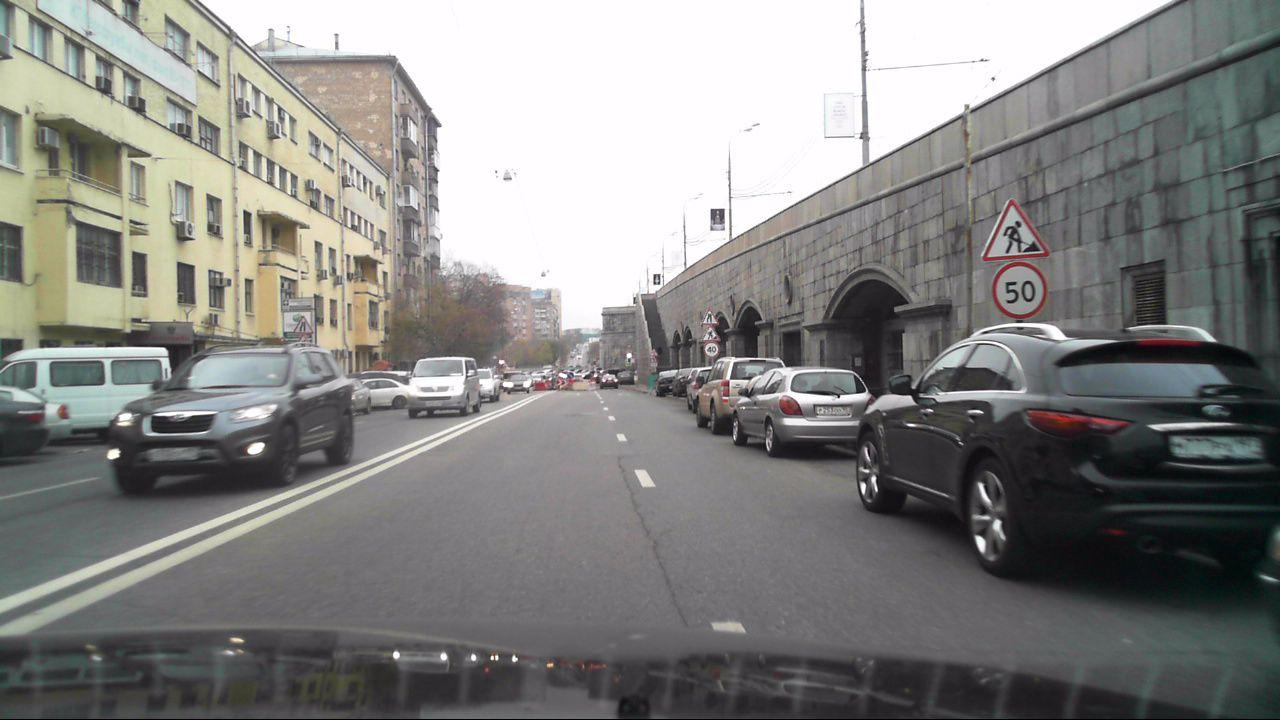1_20_2: (649, 348, 659, 356)
1_20_3: (699, 308, 719, 324)
1_25: (978, 197, 1052, 261), (701, 326, 722, 342), (649, 356, 657, 362)
1_34_1: (556, 380, 568, 385)
3_24: (993, 262, 1048, 317), (703, 342, 720, 357)
4_2_1: (567, 372, 574, 379)
8_1_3: (650, 363, 658, 367)
